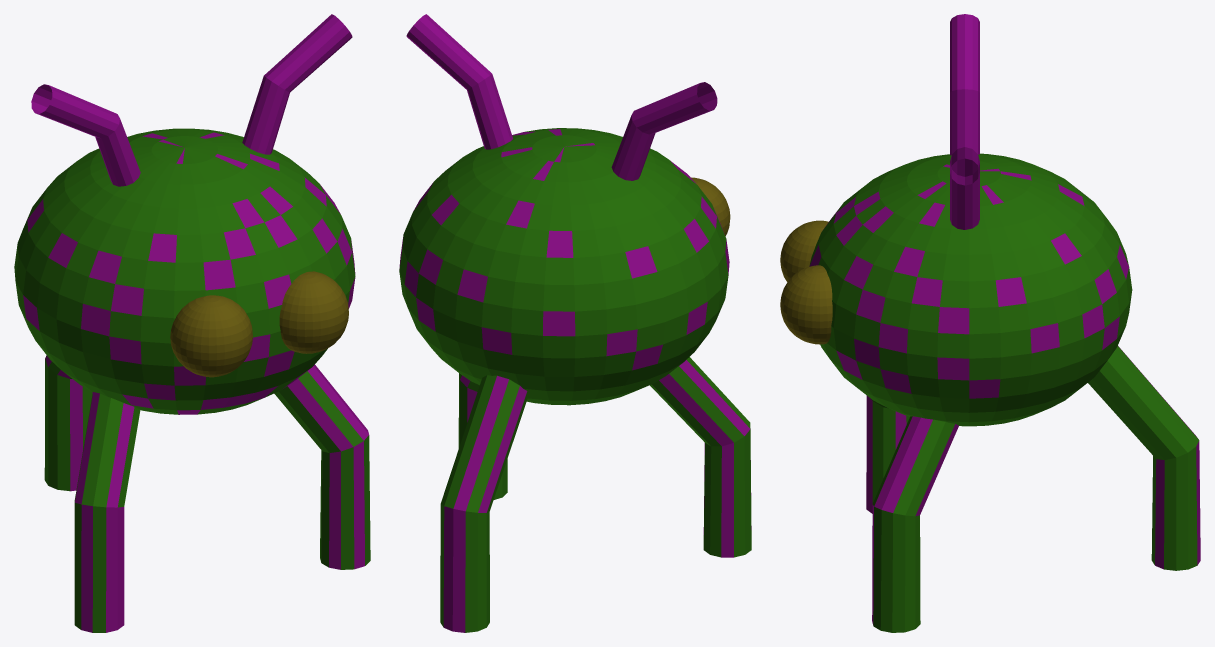
Rendered from defender_alien3.obj.
3 renders of one model, left to right at view 1: azimuth 30°, elevation 25°; view 2: azimuth 150°, elevation 25°; view 3: azimuth 270°, elevation 25°, orthographic. The views are drawn at different scales.
Visible parts, largest first — view 1: Vert.001; view 2: Vert.001; view 3: Vert.001.
Boxes of the visible parts, left/top/right/bottom form: Vert.001: left=14, top=14, right=370, bottom=632; Vert.001: left=399, top=14, right=751, bottom=632; Vert.001: left=780, top=14, right=1200, bottom=632.
Bounding box in the file's own units: 2.55 × 3.96 × 3.09.
